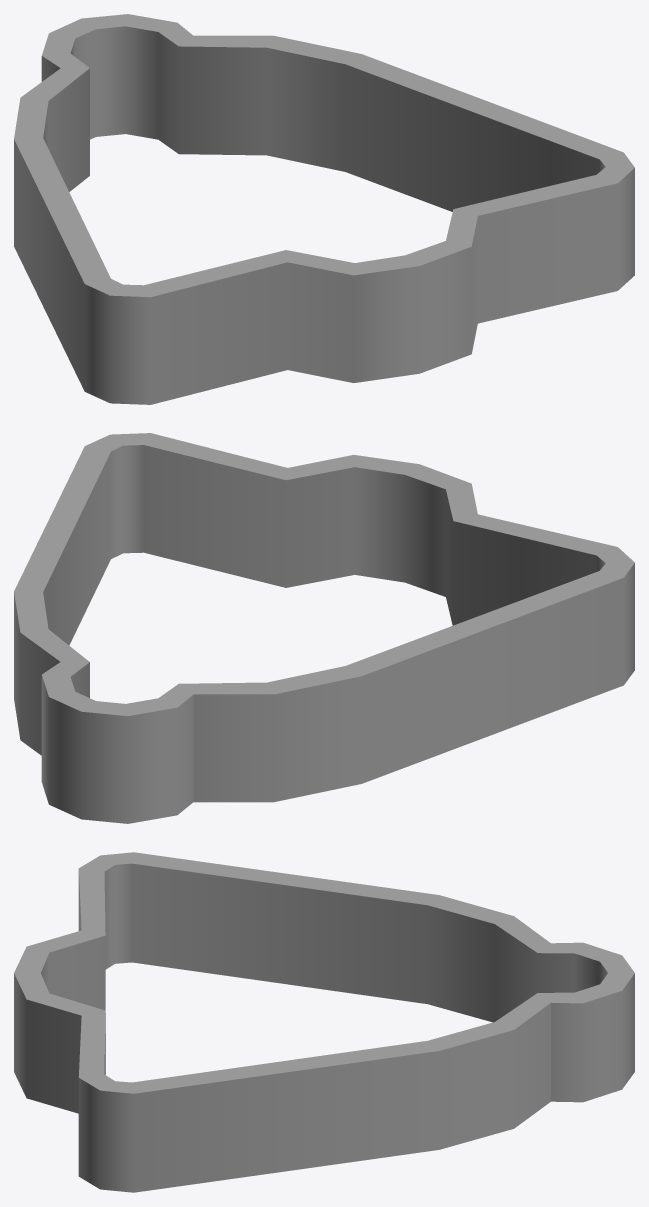
The model's file is BiscuitCutter_Bell_01.fbx.
3 views of the same model, one above another, from view 1: azimuth 30°, elevation 25°; view 2: azimuth 150°, elevation 25°; view 3: azimuth 270°, elevation 25° (orthographic). The views are drawn at different scales.
Parts seen in each view (by area): view 1: BiscuitCutter_Bell_01; view 2: BiscuitCutter_Bell_01; view 3: BiscuitCutter_Bell_01.
Part boxes in pixels (left/top/right/bottom): BiscuitCutter_Bell_01: left=14, top=14, right=634, bottom=404; BiscuitCutter_Bell_01: left=14, top=433, right=634, bottom=823; BiscuitCutter_Bell_01: left=14, top=852, right=634, bottom=1192.
Bounding box in the file's own units: 0.0668 × 0.0128 × 0.0726.
